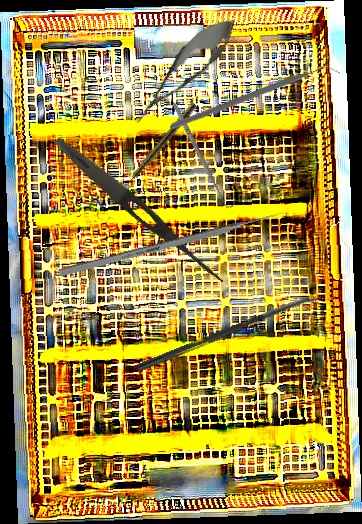Chopper: (169, 10, 341, 190)
Dressing Forceps: (50, 133, 230, 288)
Handpiece: (117, 101, 198, 195)
Hook Surgical: (170, 99, 235, 212)
Micro Scissor: (123, 7, 246, 134)
Pusher: (58, 207, 292, 278)
Surgical Spoon: (136, 291, 320, 374)
